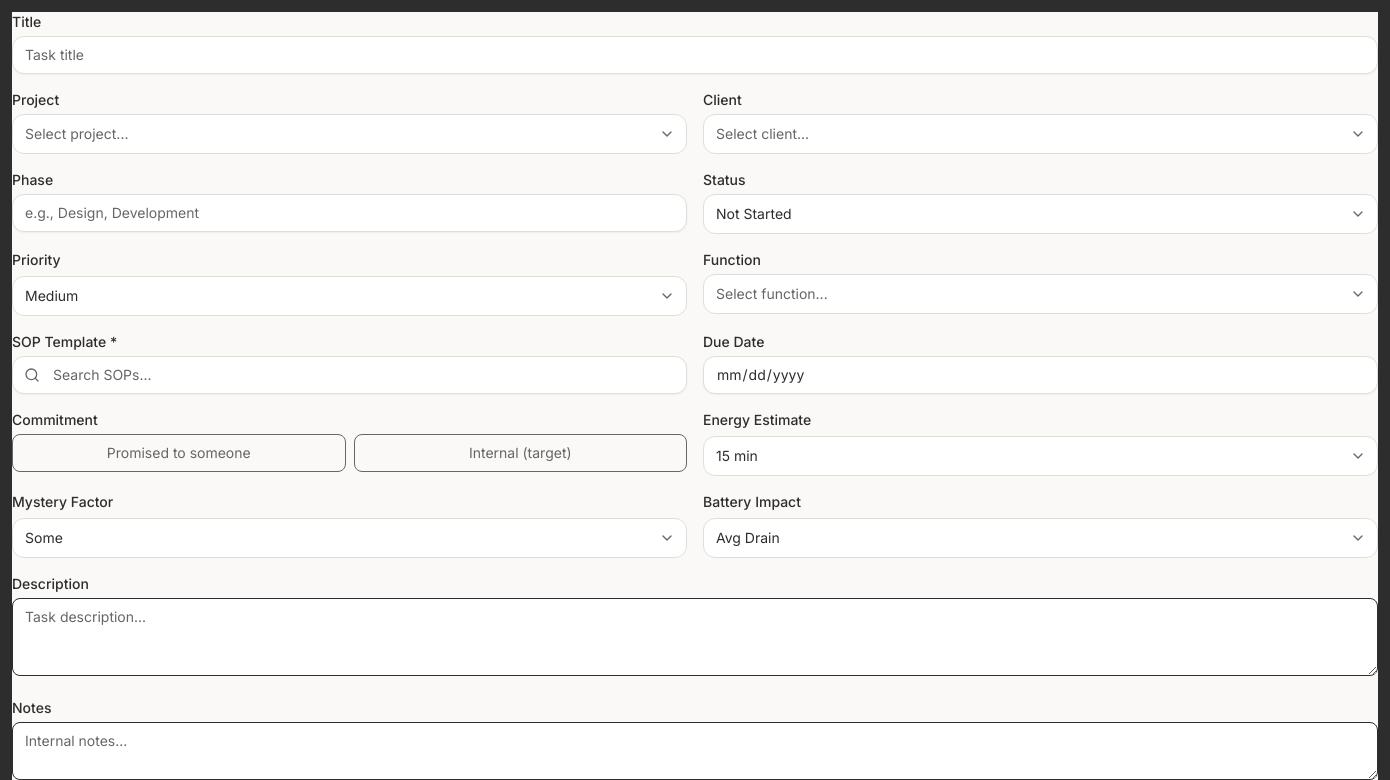
Test: TaskForm › SOP search functionality › filters SOPs by search term
Type "Bug" into the field with placeholder "Search SOPs..." at (350, 375), box 12,356 -> 687,394
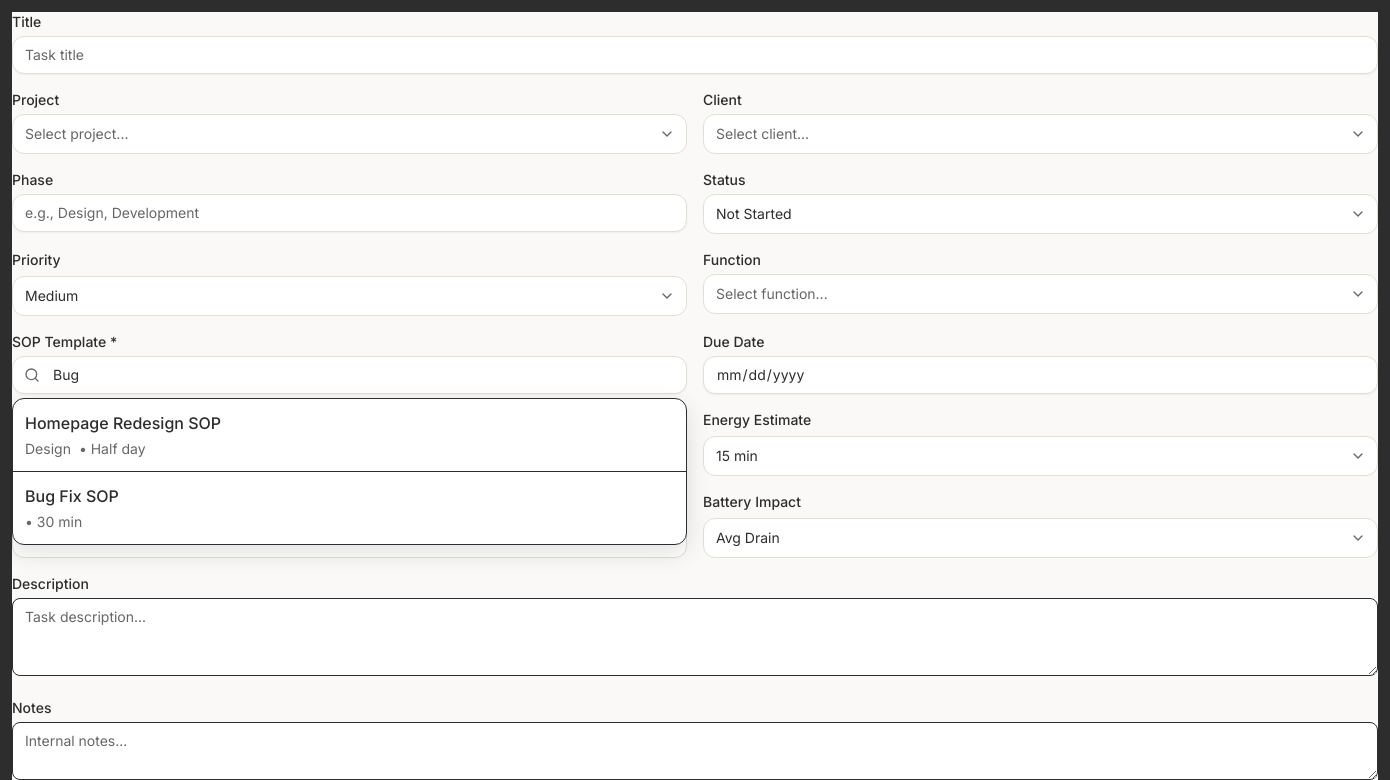
Expected: the text "Bug Fix SOP" is shown, 25,486 -> 119,506
